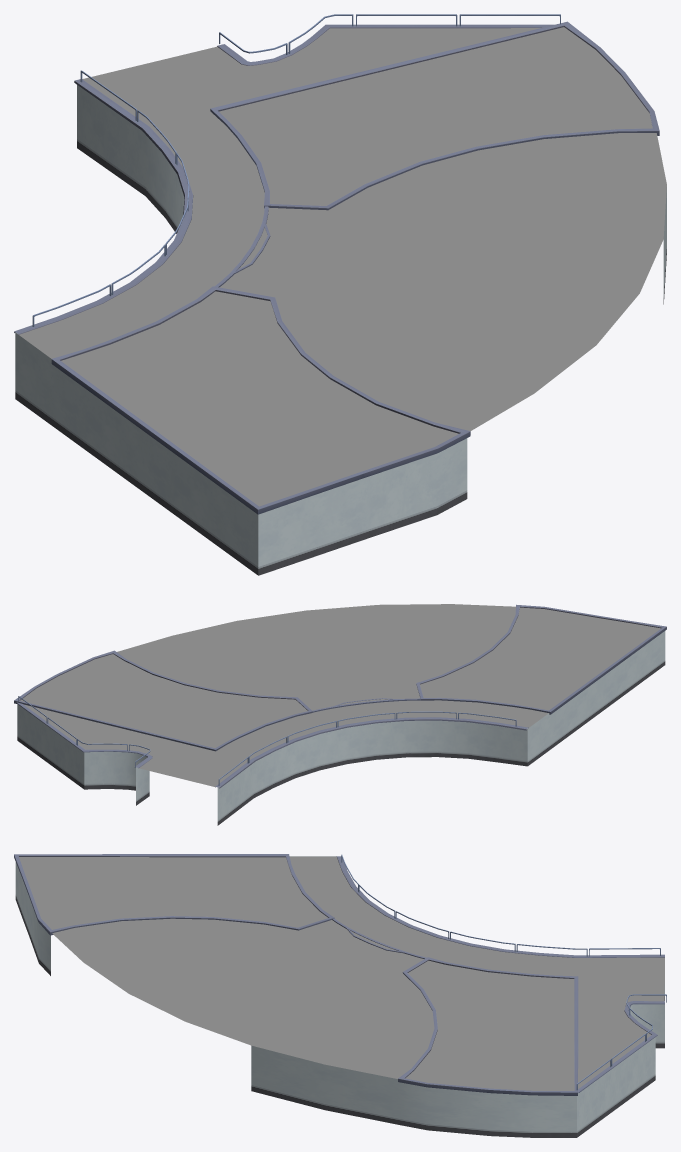
Rendered from mesh_1002_diji01c.FBX.
The picture shows the model from 3 angles, top to bottom: view 1: azimuth 30°, elevation 25°; view 2: azimuth 150°, elevation 25°; view 3: azimuth 270°, elevation 25°; orthographic projection. The views are drawn at different scales.
Parts seen in each view (by area): view 1: mesh_1002_diji01b, mesh_1002_diji01a, mesh_1002_diji01f, mesh_1002_diji01d, mesh_1002_diji01c, mesh_1002_diji01e, mesh_1002_diji01g; view 2: mesh_1002_diji01b, mesh_1002_diji01a, mesh_1002_diji01f, mesh_1002_diji01d, mesh_1002_diji01c, mesh_1002_diji01g, mesh_1002_diji01e; view 3: mesh_1002_diji01b, mesh_1002_diji01a, mesh_1002_diji01f, mesh_1002_diji01d, mesh_1002_diji01c, mesh_1002_diji01g, mesh_1002_diji01e.
Part boxes in pixels (<box>): mesh_1002_diji01b: <box>219,133,666,431</box>; mesh_1002_diji01a: <box>61,27,652,506</box>; mesh_1002_diji01f: <box>15,85,666,575</box>; mesh_1002_diji01d: <box>21,29,530,358</box>; mesh_1002_diji01c: <box>14,21,659,514</box>; mesh_1002_diji01e: <box>19,28,540,336</box>; mesh_1002_diji01g: <box>32,14,560,326</box>; mesh_1002_diji01b: <box>117,604,515,710</box>; mesh_1002_diji01a: <box>20,607,660,747</box>; mesh_1002_diji01f: <box>17,631,665,825</box>; mesh_1002_diji01d: <box>28,700,548,786</box>; mesh_1002_diji01c: <box>14,604,666,788</box>; mesh_1002_diji01g: <box>18,696,516,785</box>; mesh_1002_diji01e: <box>23,704,529,787</box>; mesh_1002_diji01b: <box>52,918,434,1078</box>; mesh_1002_diji01a: <box>19,857,574,1090</box>; mesh_1002_diji01f: <box>15,856,664,1137</box>; mesh_1002_diji01d: <box>290,856,664,1086</box>; mesh_1002_diji01c: <box>14,854,664,1095</box>; mesh_1002_diji01g: <box>341,854,666,1090</box>; mesh_1002_diji01e: <box>334,856,664,1088</box>.
Bounding box in the file's own units: 16582 × 1730 × 19182.
Materials: 4 (3 with a texture image).
